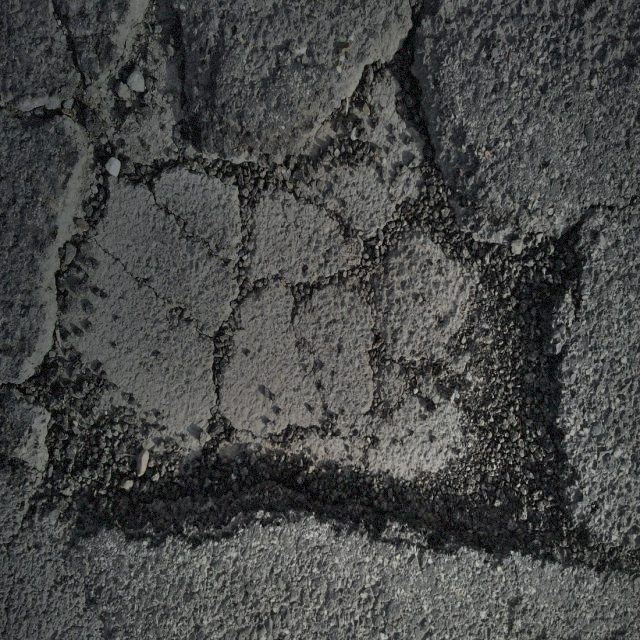pothole: (34, 70, 598, 594)
